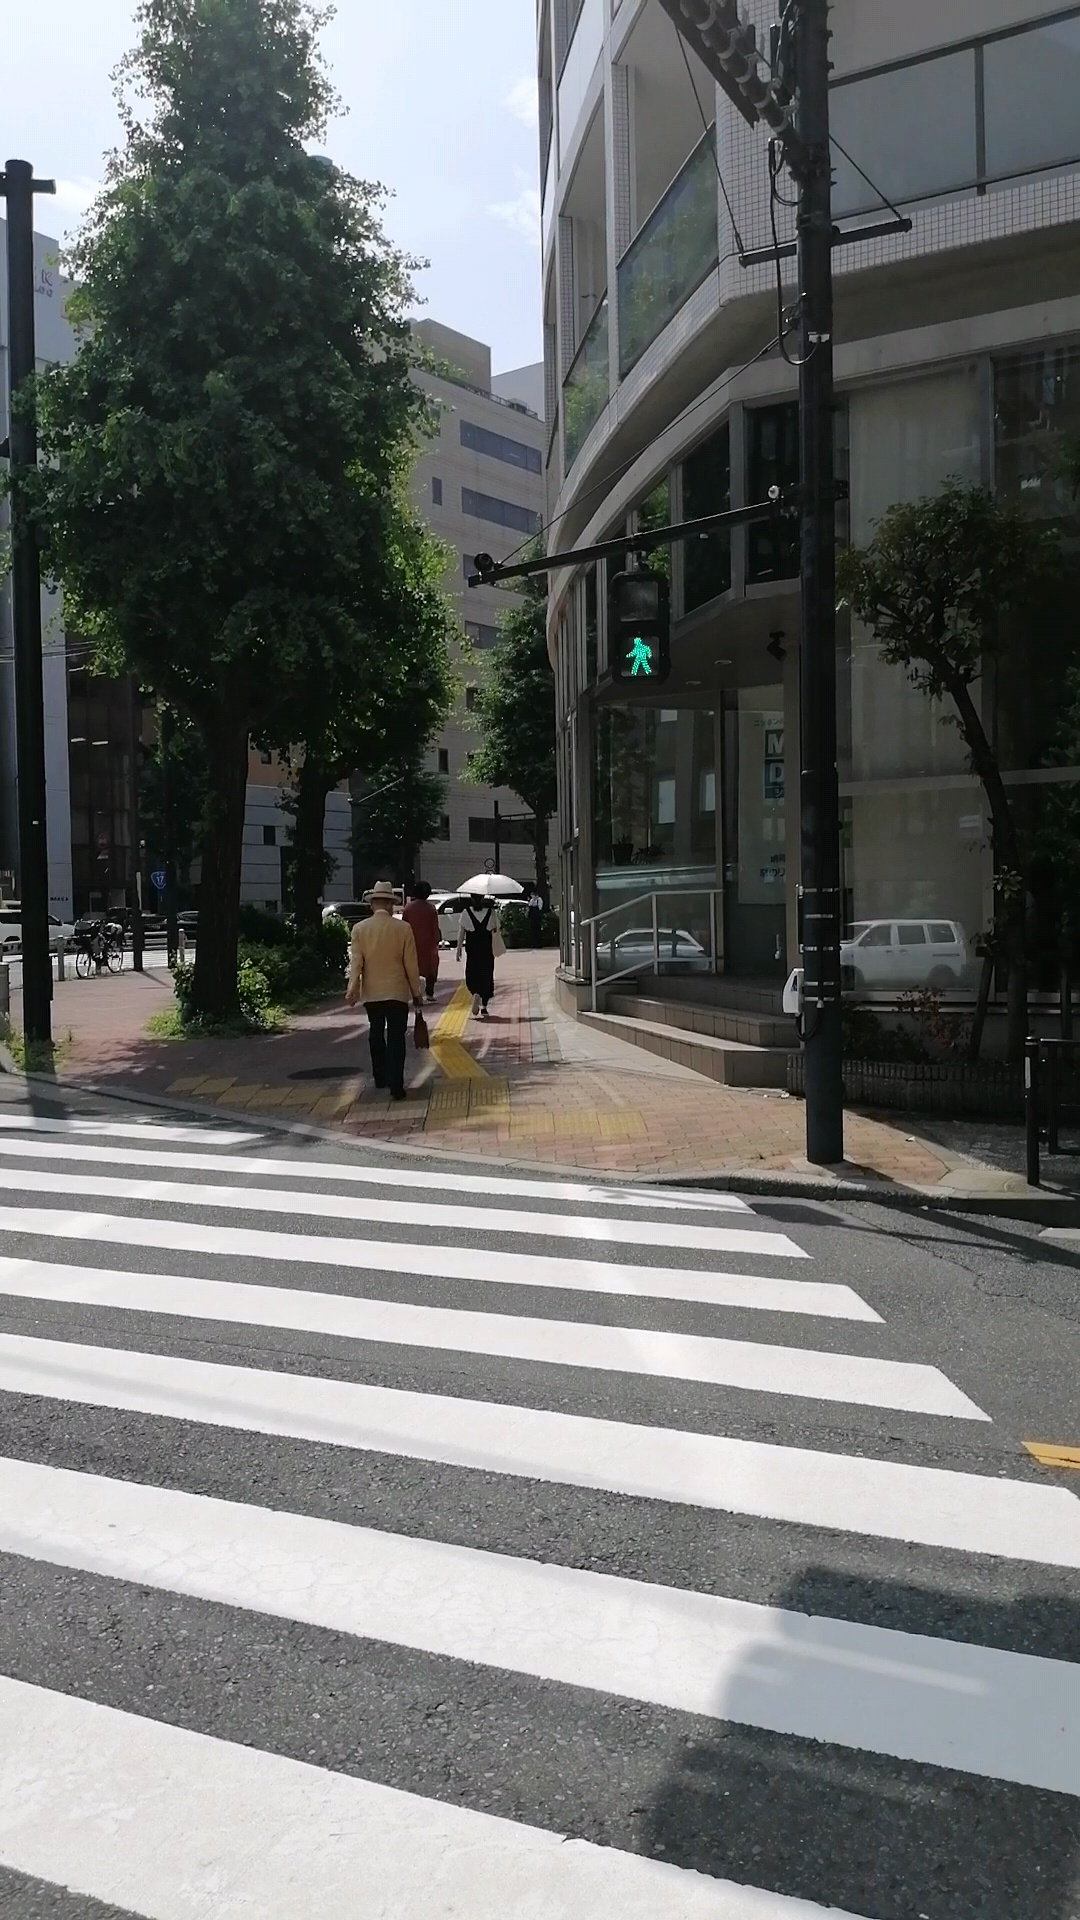green: (607, 570, 671, 688)
